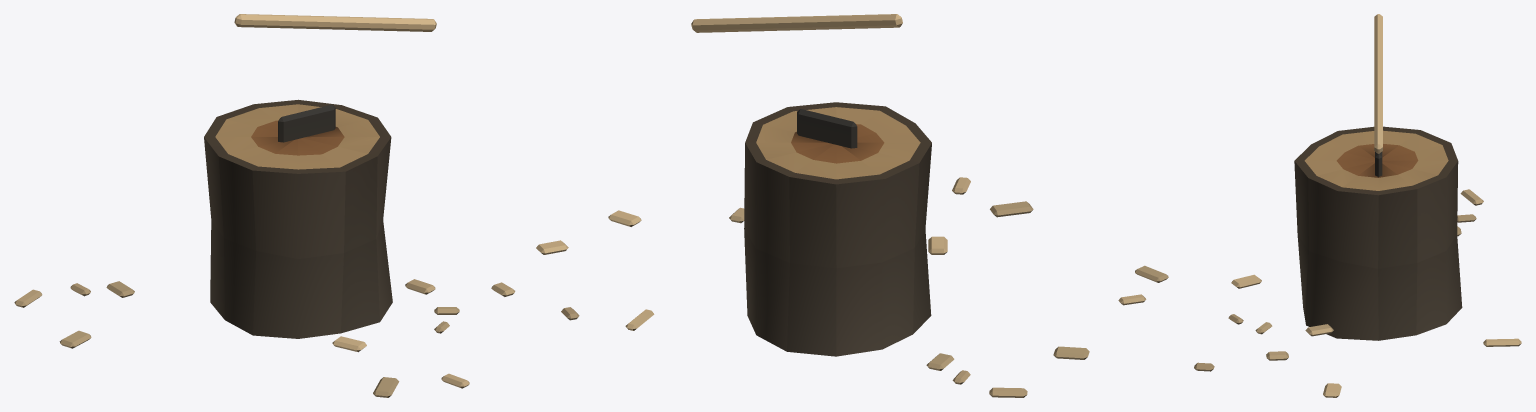
Rendered from chopping_block.glb.
3 renders of one model, left to right at view 1: azimuth 30°, elevation 25°; view 2: azimuth 150°, elevation 25°; view 3: azimuth 270°, elevation 25°, orthographic. The views are drawn at different scales.
Visible parts, largest first — view 1: log-001, wood-axe-001, wood-chips-002; view 2: log-001, wood-axe-001, wood-chips-002; view 3: log-001, wood-chips-002, wood-axe-001.
Boxes of the visible parts, x1,y1,x2,y2 form: log-001: (204, 99, 392, 338); wood-axe-001: (234, 14, 436, 142); wood-chips-002: (14, 240, 579, 397); log-001: (744, 102, 931, 356); wood-axe-001: (691, 14, 902, 148); wood-chips-002: (608, 177, 1089, 397); log-001: (1294, 126, 1462, 340); wood-chips-002: (1118, 189, 1521, 397); wood-axe-001: (1374, 14, 1382, 176).
Bounding box in the file's own units: 1.67 × 1 × 1.37.
